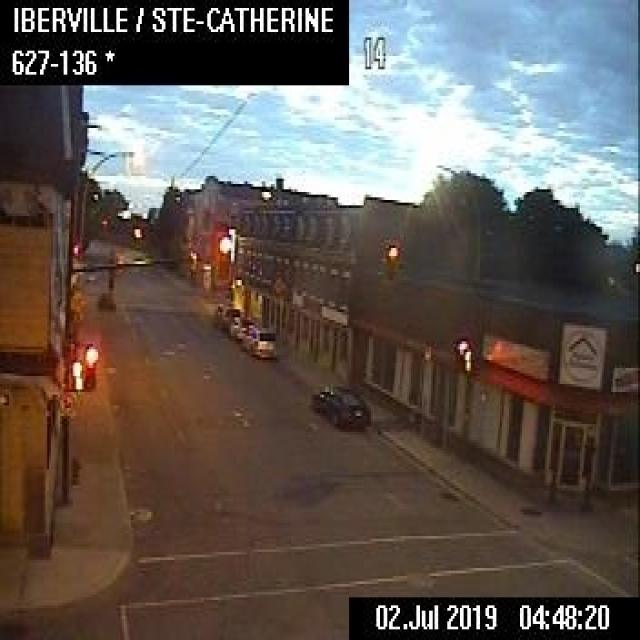vehicle: (309, 381, 371, 424), (240, 323, 278, 360), (212, 300, 239, 330), (227, 313, 252, 339), (96, 289, 115, 309)
